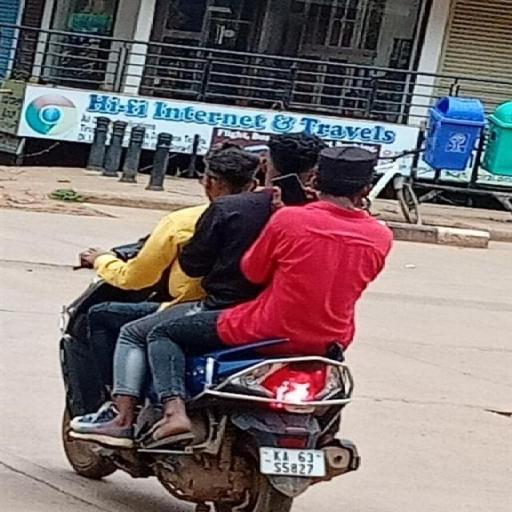tripple riding: (62, 125, 399, 349)
